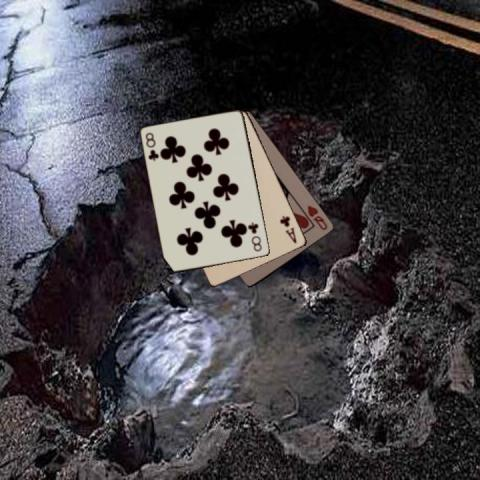8c: (142, 129, 160, 163), (246, 219, 263, 253)
Ac: (277, 212, 298, 244)
Qh: (305, 202, 329, 232)
